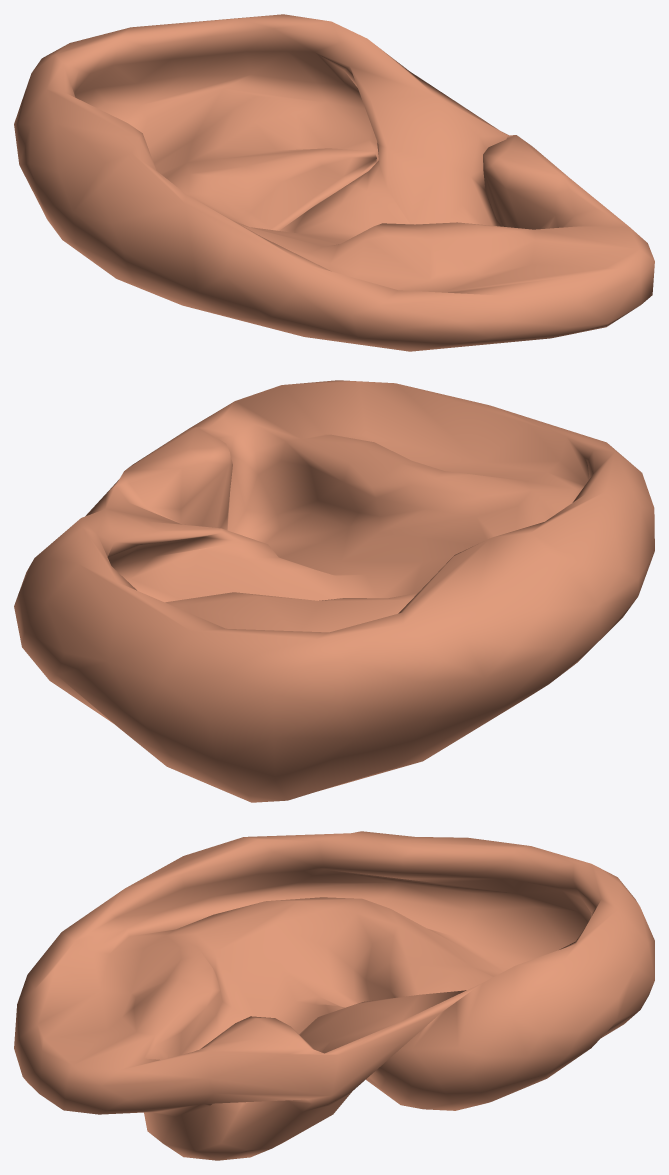
Rendered from ear2.glb.
3 renders of one model, top to bottom at view 1: azimuth 30°, elevation 25°; view 2: azimuth 150°, elevation 25°; view 3: azimuth 270°, elevation 25°, orthographic. The views are drawn at different scales.
Parts seen in each view (by area): view 1: Ear; view 2: Ear; view 3: Ear.
Boxes of the visible parts, x1,y1,x2,y2 form: Ear: [14, 14, 654, 351]; Ear: [14, 380, 654, 802]; Ear: [14, 831, 654, 1160].
Size of the model in its own units: 1.86 by 0.7471 by 2.51.
